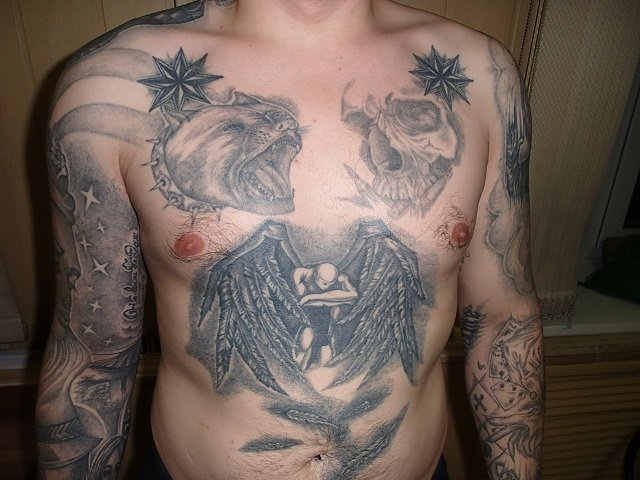tatu1_angel: (179, 216, 433, 403)
tatu4_zvezda: (71, 181, 118, 351), (132, 42, 230, 120), (402, 42, 482, 115)
